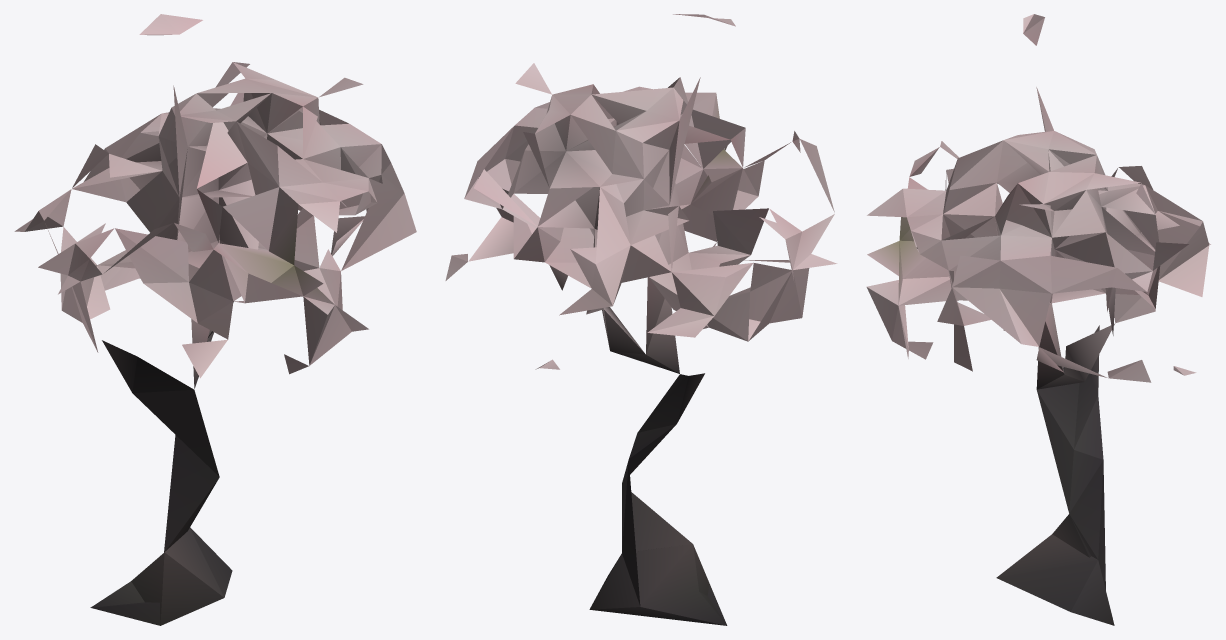
Rendered from lib_blossom.vc2.glb.
3 renders of one model, left to right at view 1: azimuth 30°, elevation 25°; view 2: azimuth 150°, elevation 25°; view 3: azimuth 270°, elevation 25°, orthographic. The views are drawn at different scales.
Parts seen in each view (by area): view 1: lib_blossom; view 2: lib_blossom; view 3: lib_blossom.
Boxes of the visible parts, <box> form: lib_blossom: <box>14,14,416,625</box>; lib_blossom: <box>445,14,837,625</box>; lib_blossom: <box>866,14,1210,625</box>.
Size of the model in its own units: 1.14 by 1.98 by 1.08.
